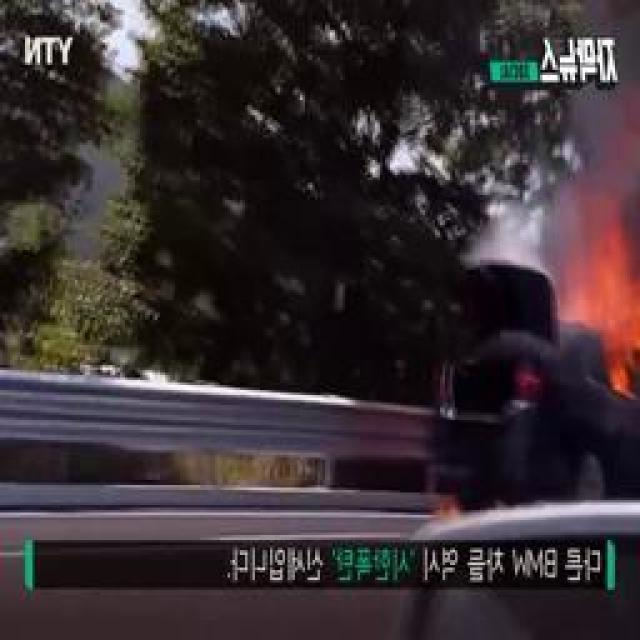Fire: (560, 219, 640, 400)
